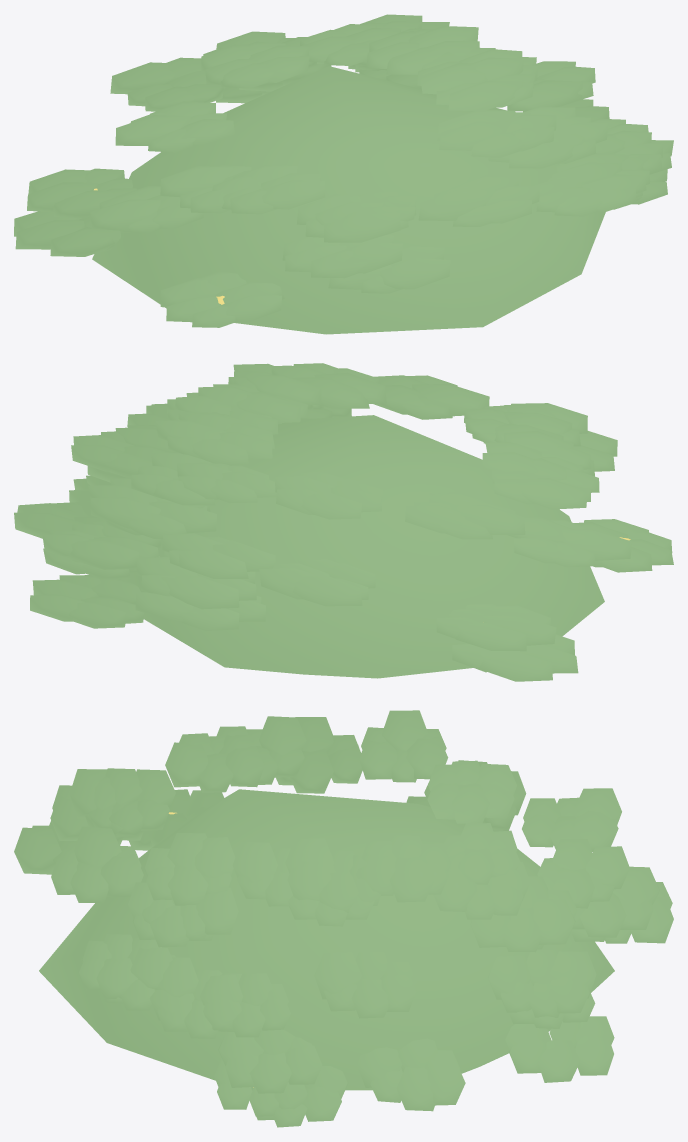
Rendered from Blender_Naupaka_1.glb.
3 renders of one model, top to bottom at view 1: azimuth 30°, elevation 25°; view 2: azimuth 150°, elevation 25°; view 3: azimuth 270°, elevation 25°, orthographic. The views are drawn at different scales.
Parts seen in each view (by area): view 1: Blender_Naupaka_1; view 2: Blender_Naupaka_1; view 3: Blender_Naupaka_1.
Boxes of the visible parts, left/top/right/bottom form: Blender_Naupaka_1: left=14, top=14, right=673, bottom=334; Blender_Naupaka_1: left=14, top=363, right=673, bottom=681; Blender_Naupaka_1: left=14, top=710, right=673, bottom=1127.
Size of the model in its own units: 3.23 by 0.8728 by 2.78.
